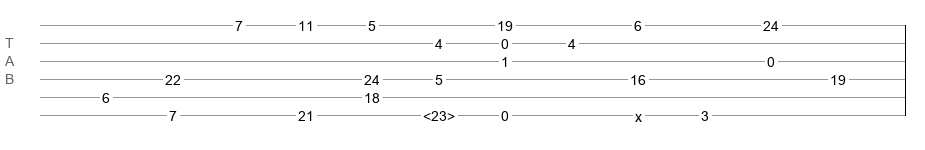0: (501, 108, 509, 118), (501, 36, 509, 46), (767, 54, 775, 64)
1: (501, 54, 509, 64)
11: (298, 18, 314, 28)
16: (630, 72, 646, 82)
18: (364, 90, 380, 100)
19: (497, 18, 513, 28), (830, 72, 846, 82)
21: (298, 108, 314, 118)
22: (165, 72, 181, 82)
24: (364, 72, 380, 82), (763, 18, 779, 28)
3: (701, 108, 709, 118)
4: (435, 36, 443, 46), (568, 36, 576, 46)
5: (368, 18, 376, 28), (435, 72, 443, 82)
6: (102, 90, 110, 100), (634, 18, 642, 28)
7: (169, 108, 177, 118), (235, 18, 243, 28)
harmonic: (423, 108, 455, 118)
x: (635, 109, 642, 117)
